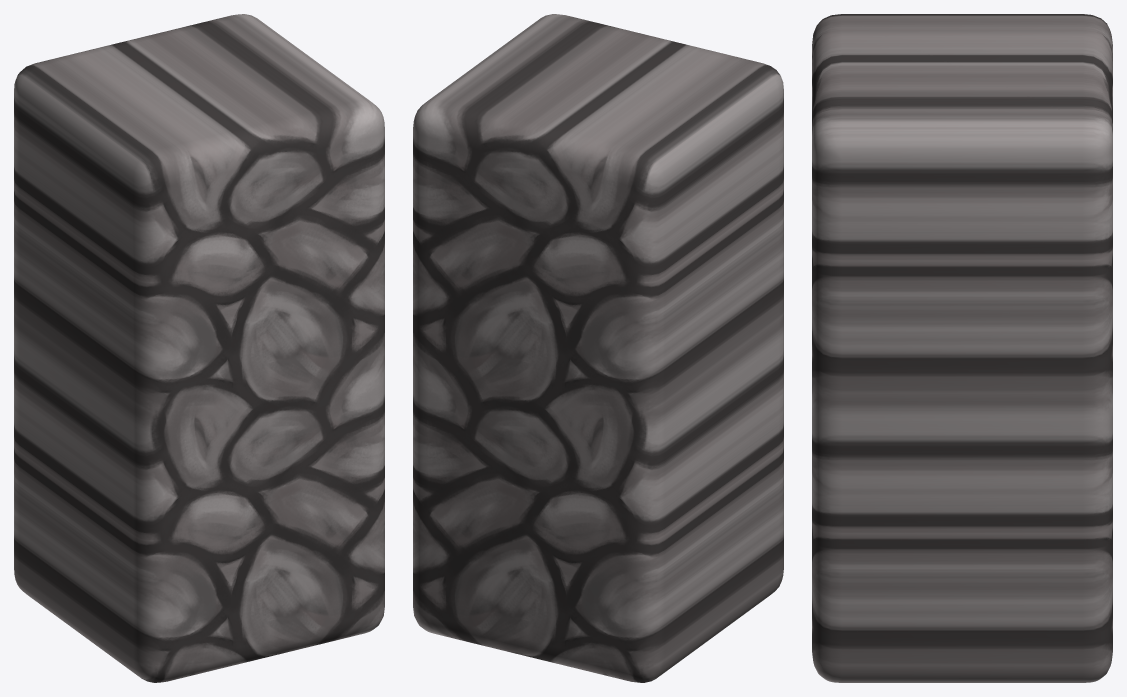
File: double_block.FBX
3 views of the same model, side by side, from view 1: azimuth 30°, elevation 25°; view 2: azimuth 150°, elevation 25°; view 3: azimuth 270°, elevation 25° (orthographic). The views are drawn at different scales.
Visible parts, largest first — view 1: Box002; view 2: Box002; view 3: Box002.
Part boxes in pixels (bbox=[...]): Box002: bbox=[14, 14, 384, 682]; Box002: bbox=[413, 14, 783, 682]; Box002: bbox=[812, 14, 1112, 682].
Size of the model in its own units: 1 by 2.05 by 1.
